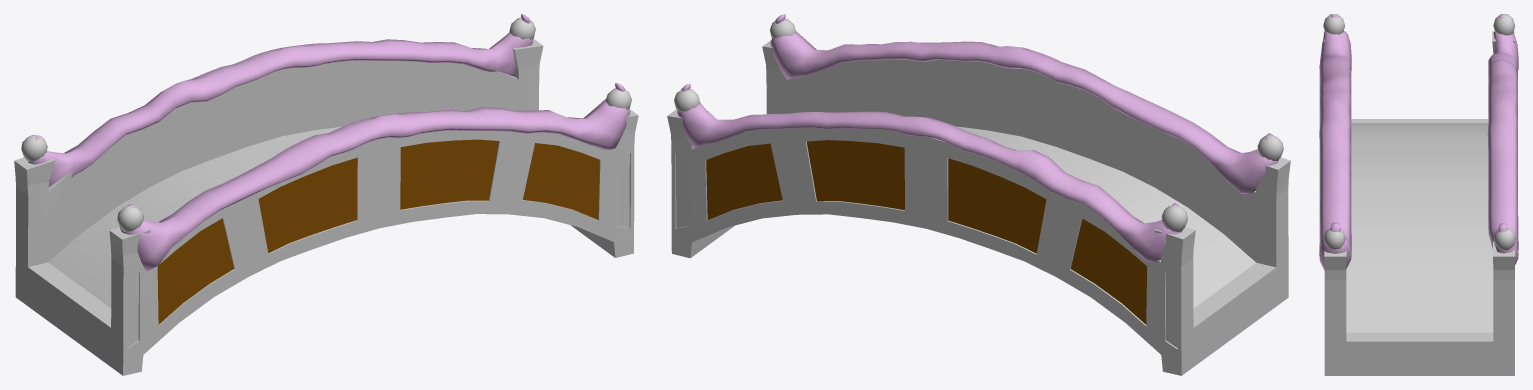
Rendered from Pony_House_Bridge.fbx.
The picture shows the model from 3 angles, left to right: view 1: azimuth 30°, elevation 25°; view 2: azimuth 150°, elevation 25°; view 3: azimuth 270°, elevation 25°; orthographic projection. The views are drawn at different scales.
Parts seen in each view (by area): view 1: Bridge, Bridge_Snow; view 2: Bridge, Bridge_Snow; view 3: Bridge, Bridge_Snow.
Part boxes in pixels (x1,y1,x2,y2): Bridge: [14, 18, 638, 375]; Bridge_Snow: [28, 14, 630, 271]; Bridge: [667, 19, 1290, 375]; Bridge_Snow: [677, 14, 1278, 261]; Bridge: [1323, 14, 1515, 375]; Bridge_Snow: [1319, 14, 1518, 270].
Bounding box in the file's own units: 1626 × 579 × 614.
